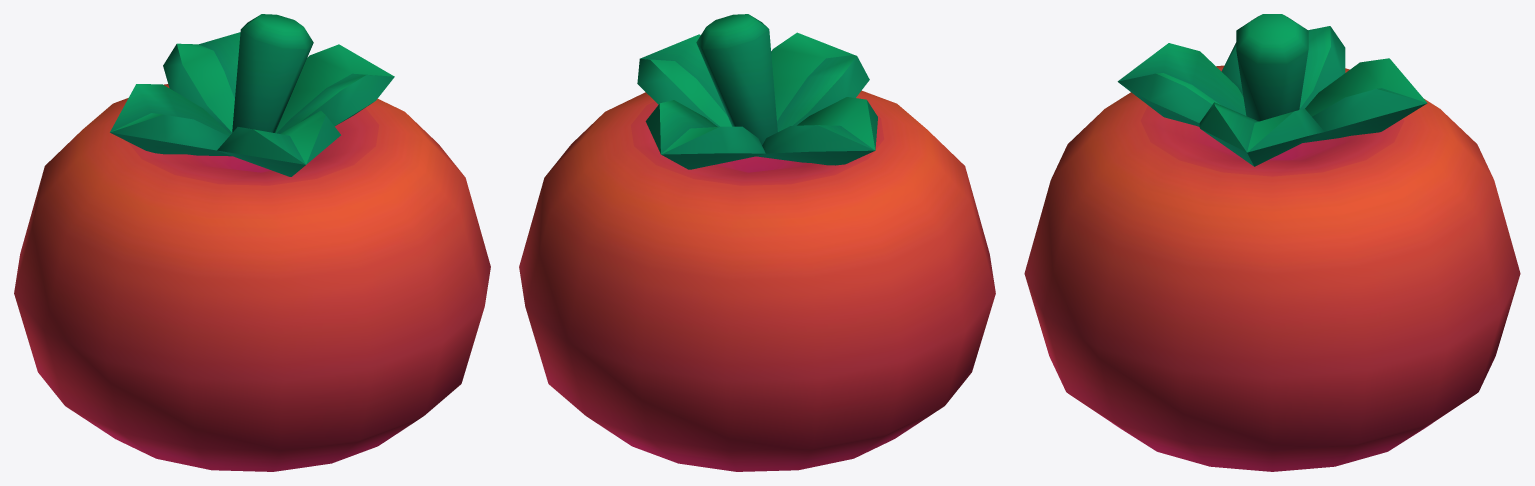
The model's file is tomato.glb.
The picture shows the model from 3 angles, left to right: view 1: azimuth 30°, elevation 25°; view 2: azimuth 150°, elevation 25°; view 3: azimuth 270°, elevation 25°; orthographic projection. The views are drawn at different scales.
Visible parts, largest first — view 1: food_ingredient_tomato; view 2: food_ingredient_tomato; view 3: food_ingredient_tomato.
Part boxes in pixels (x1,y1,x2,y2): food_ingredient_tomato: (14,14,490,471); food_ingredient_tomato: (519,14,995,471); food_ingredient_tomato: (1024,14,1520,471).
Size of the model in its own units: 0.75 by 0.7 by 0.75.
1 material, 1 textured.
